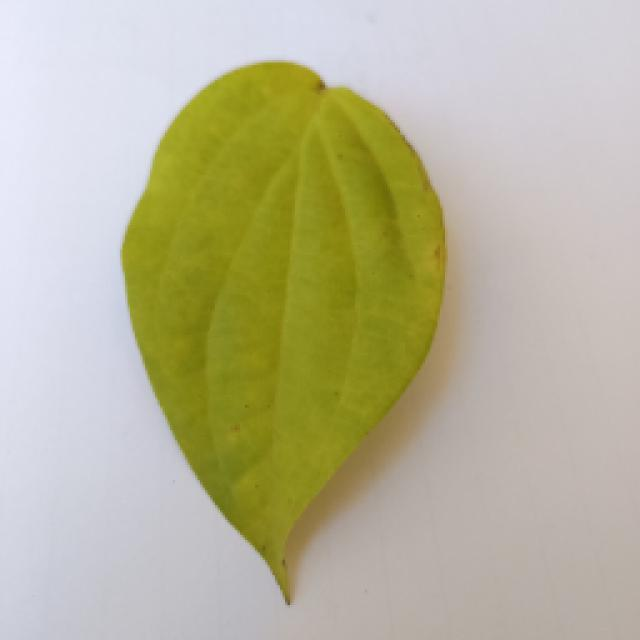slow-decline: (97, 62, 465, 608)
